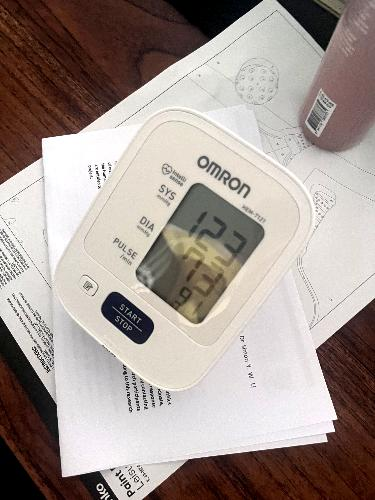bpm: (126, 177, 272, 333)
